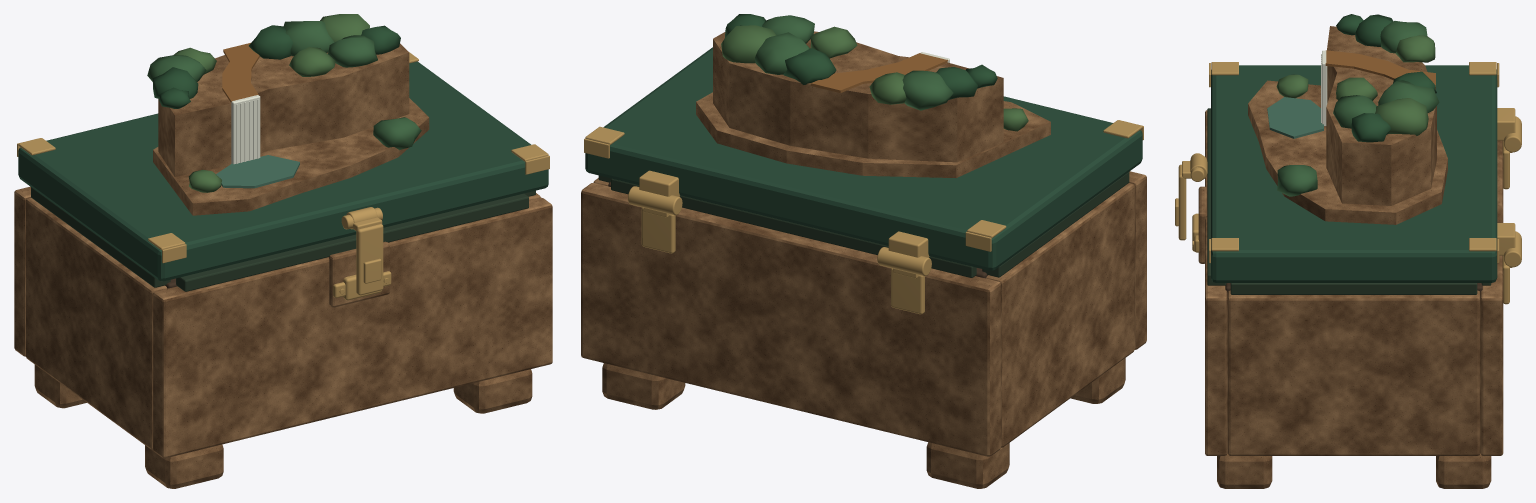
The model's file is guyana.glb.
The picture shows the model from 3 angles, left to right: view 1: azimuth 30°, elevation 25°; view 2: azimuth 150°, elevation 25°; view 3: azimuth 270°, elevation 25°; orthographic projection. The views are drawn at different scales.
Visible parts, largest first — view 1: Body / sandstone long, Lid / polished slab, Body / sandstone side, Terrain / sandstone plateau, Terrain / lower island, Seam / long, Foot / sandstone, Foot / sandstone.002, Body / sandstone long.001, Water / lower pool, Water / connected waterfall, Water / upper Potaro river (+14 smaller); view 2: Body / sandstone long.001, Lid / polished slab, Body / sandstone side, Terrain / sandstone plateau, Terrain / lower island, Seam / long.001, Foot / sandstone.001, Foot / sandstone.003, Body / sandstone long, Water / upper Potaro river, Seam / side, Canopy / crown 1 (+14 smaller); view 3: Body / sandstone side.001, Lid / polished slab, Terrain / sandstone plateau, Terrain / lower island, Body / sandstone long.001, Body / sandstone long, Seam / side.001, Water / lower pool, Foot / sandstone.002, Foot / sandstone.003, Canopy / crown 5, Water / upper Potaro river (+23 smaller).
Boxes of the visible parts, x1,y1,x2,y2 form: Body / sandstone long: (153,197,552,458); Lid / polished slab: (18,61,548,281); Body / sandstone side: (25,198,167,449); Terrain / sandstone plateau: (158,43,409,176); Terrain / lower island: (153,98,429,215); Seam / long: (176,193,528,291); Foot / sandstone: (145,444,223,488); Foot / sandstone.002: (453,369,532,413); Body / sandstone long.001: (14,186,30,356); Water / lower pool: (216,155,299,188); Water / connected waterfall: (231,95,260,164); Water / upper Potaro river: (222,43,259,102); Body / sandstone long.001: (581,183,1000,456); Lid / polished slab: (585,47,1142,270); Body / sandstone side: (986,183,1134,447); Terrain / sandstone plateau: (713,31,1003,162); Terrain / lower island: (696,92,1050,177); Seam / long.001: (611,178,976,277); Foot / sandstone.001: (926,442,1009,488); Foot / sandstone.003: (602,363,685,409); Body / sandstone long: (1129,171,1146,349); Water / upper Potaro river: (810,53,948,92); Seam / side: (982,172,1129,277); Canopy / crown 1: (902,70,953,110); Body / sandstone side.001: (1227,290,1480,455); Lid / polished slab: (1211,65,1497,282); Terrain / sandstone plateau: (1326,26,1436,205); Terrain / lower island: (1248,80,1447,224); Body / sandstone long.001: (1480,140,1503,455); Body / sandstone long: (1205,110,1227,455); Seam / side.001: (1230,283,1477,294); Water / lower pool: (1267,97,1323,138); Foot / sandstone.002: (1217,453,1272,488); Foot / sandstone.003: (1436,453,1491,488); Canopy / crown 5: (1375,98,1428,135); Water / upper Potaro river: (1325,50,1435,89).
Bounding box in the file's own units: 3.72 × 3.15 × 2.88.
11 materials, 1 textured.
